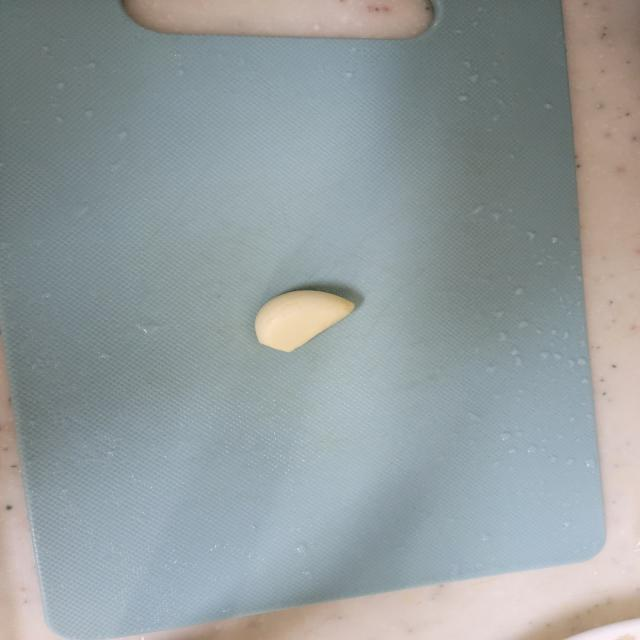garlic: (253, 286, 359, 356)
